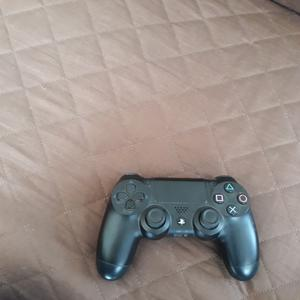controller: (96, 175, 260, 281)
